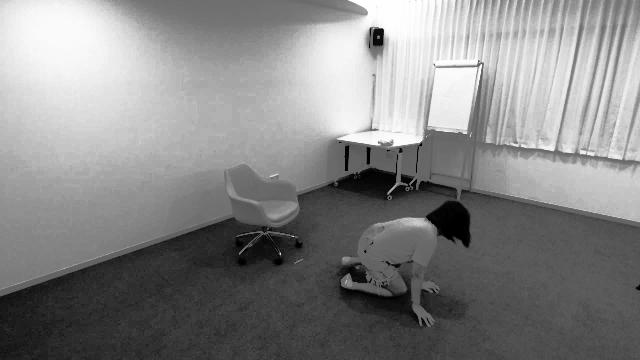jatuh: (331, 191, 475, 331)
